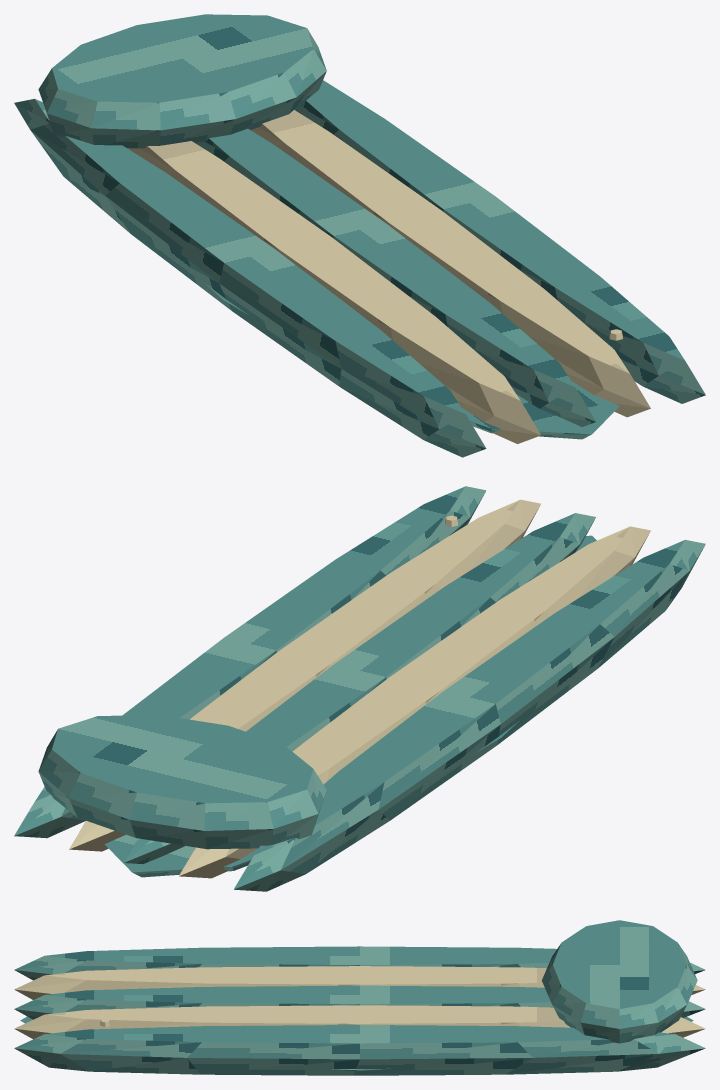
Rendered from air-mattress.glb.
3 renders of one model, top to bottom at view 1: azimuth 30°, elevation 25°; view 2: azimuth 150°, elevation 25°; view 3: azimuth 270°, elevation 25°, orthographic. The views are drawn at different scales.
Visible parts, largest first — view 1: air-mattress; view 2: air-mattress; view 3: air-mattress.
Boxes of the visible parts, left/top/right/bottom form: air-mattress: left=14, top=14, right=705, bottom=457; air-mattress: left=14, top=486, right=705, bottom=891; air-mattress: left=14, top=920, right=705, bottom=1075.
Bounding box in the file's own units: 0.626 × 0.188 × 1.82.
Materials: 1 (1 with a texture image).
